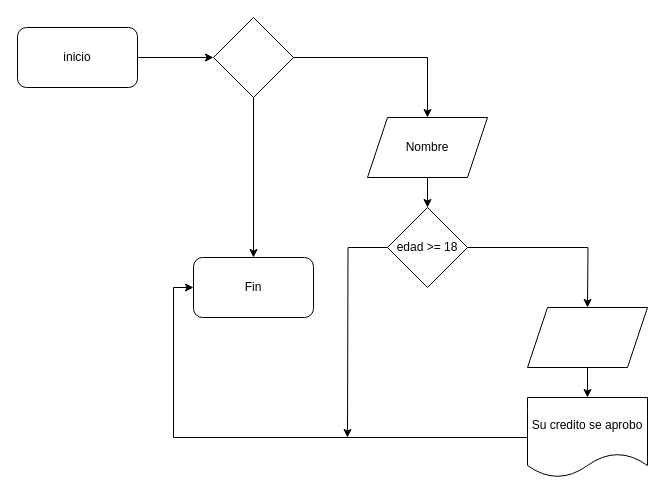
Some shapes in this 665 by 495 pixel diagram are drawn without their labels. Each missing label, with the centre of its shape:
Cantidad de dinero solicitado: the point at 587,337
Entrar?: the point at 253,57
